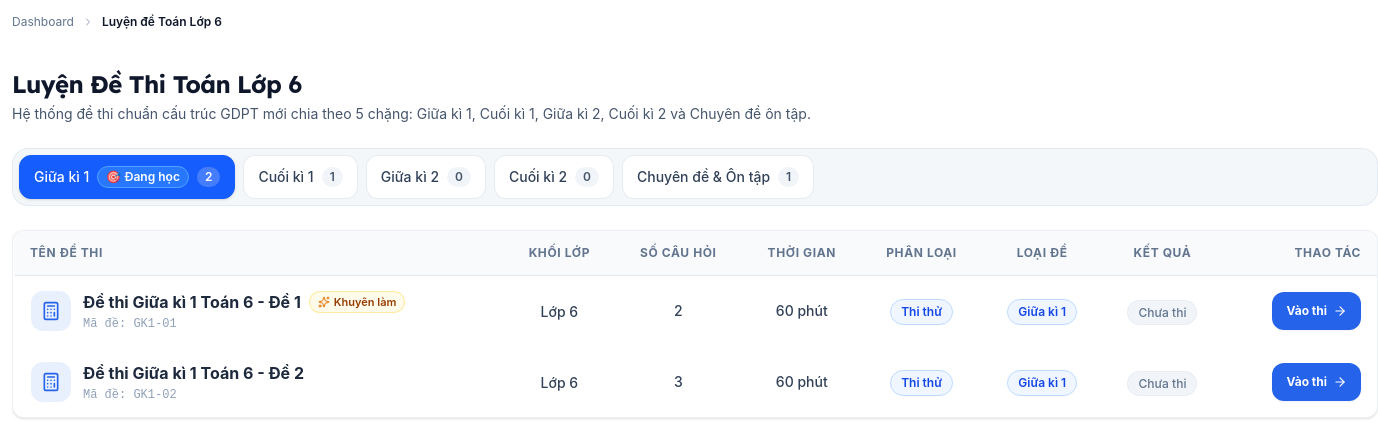
Test case: GradeExamsPage Component (/exams/lop/[grade]) › switches milestone tab and displays the corresponding exams
Expected: the text "Đề thi Giữa kì 1 Toán 6 - Đề 1" is shown, [83,290,301,314]
Note: Switch to Cuối kì 1 tab
Click the tab "Cuối kì 1 1".
click(301, 177)  # box [243,155,358,199]
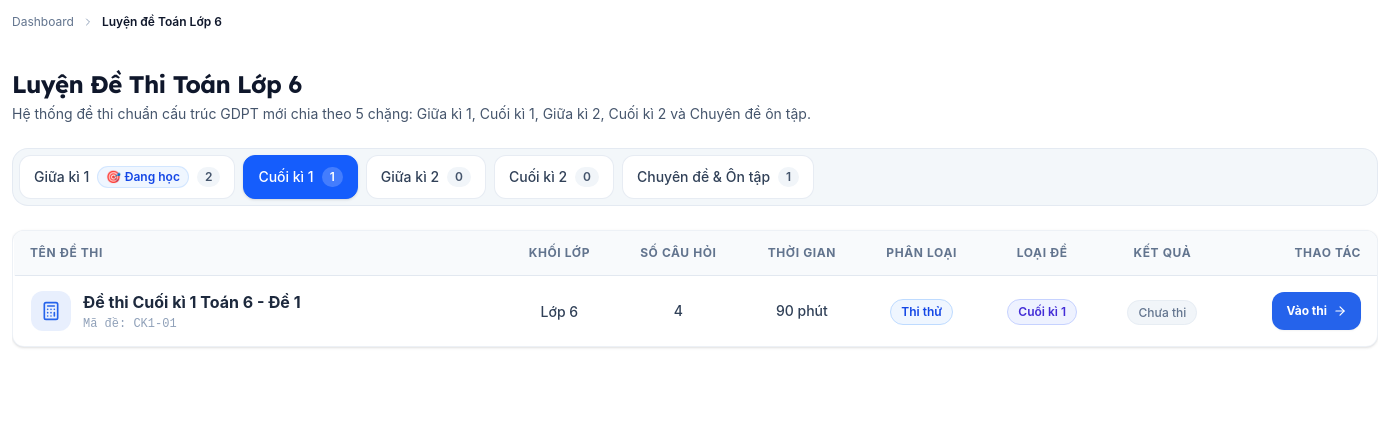
Expected: the text "Đề thi Cuối kì 1 Toán 6 - Đề 1" is shown, [83,290,301,314]
Expected: the text "Đề thi Giữa kì 1 Toán 6 - Đề 1" is gone
